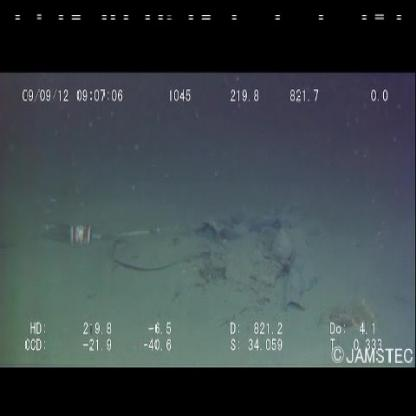Rác: (29, 203, 108, 260)
